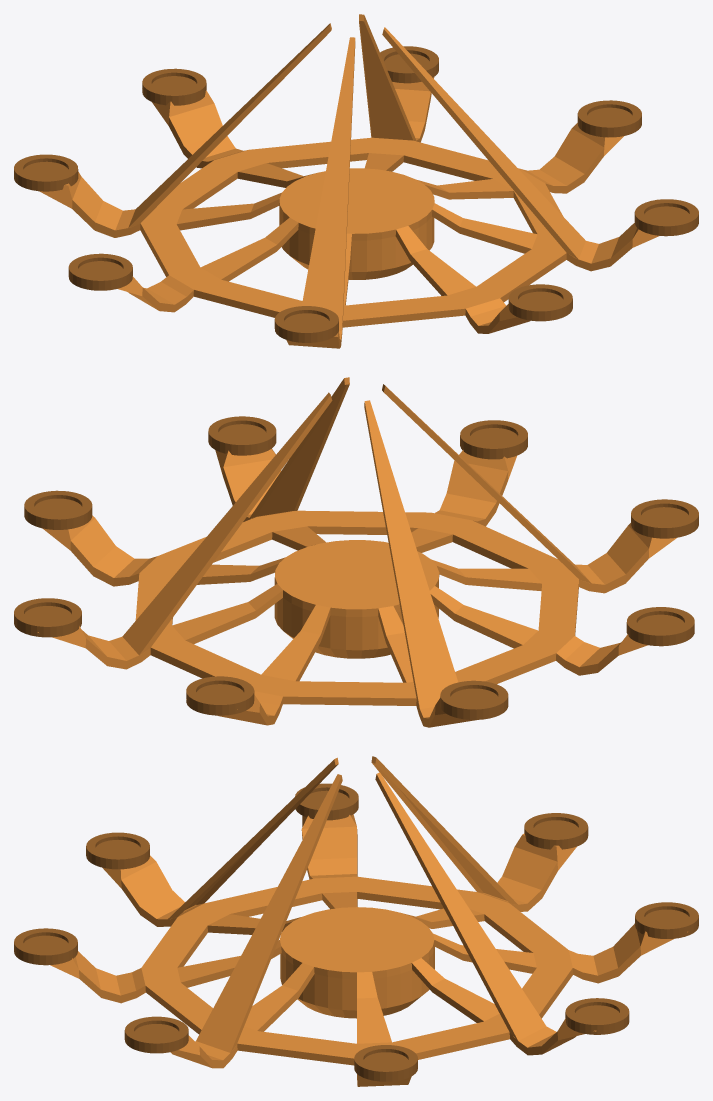
File: Candelabrum.fbx
3 views of the same model, one above another, from view 1: azimuth 30°, elevation 25°; view 2: azimuth 150°, elevation 25°; view 3: azimuth 270°, elevation 25° (orthographic). The views are drawn at different scales.
Parts seen in each view (by area): view 1: Cylinder.047; view 2: Cylinder.047; view 3: Cylinder.047.
Boxes of the visible parts, x1=… form: Cylinder.047: x1=14, y1=14, x2=698, y2=348; Cylinder.047: x1=14, y1=377, x2=698, y2=727; Cylinder.047: x1=14, y1=756, x2=698, y2=1086.
Bounding box in the file's own units: 371 × 136 × 372.
